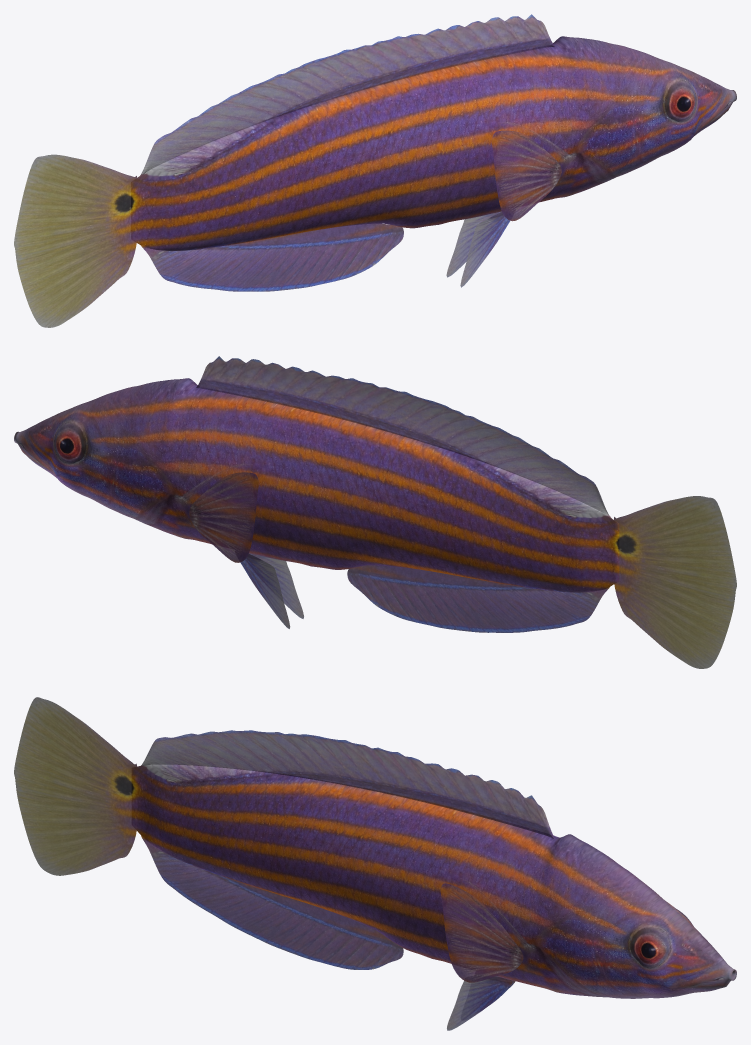
File: hexataenia.glb
The picture shows the model from 3 angles, top to bottom: view 1: azimuth 30°, elevation 25°; view 2: azimuth 150°, elevation 25°; view 3: azimuth 330°, elevation 25°; orthographic projection.
Visible parts, largest first — view 1: hexataenia__body, hexataenia__fin_0, hexataenia__fin_1, hexataenia__fin_2, hexataenia__pectoral_1, hexataenia__gill_1, hexataenia__pelvic_1, hexataenia__pelvic_-1, hexataenia__eye_1; view 2: hexataenia__body, hexataenia__fin_0, hexataenia__fin_1, hexataenia__fin_2, hexataenia__pectoral_-1, hexataenia__gill_-1, hexataenia__pelvic_-1, hexataenia__pelvic_1, hexataenia__eye_-1; view 3: hexataenia__body, hexataenia__fin_0, hexataenia__fin_1, hexataenia__fin_2, hexataenia__pectoral_1, hexataenia__gill_1, hexataenia__pelvic_1, hexataenia__eye_1.
Boxes of the visible parts, x1,y1,x2,y2 form: hexataenia__body: (136,36,736,250); hexataenia__fin_0: (14,154,137,327); hexataenia__fin_1: (138,14,555,178); hexataenia__fin_2: (141,223,403,291); hexataenia__pectoral_1: (492,130,561,221); hexataenia__gill_1: (579,77,642,184); hexataenia__pelvic_1: (460,212,509,287); hexataenia__pelvic_-1: (446,211,501,277); hexataenia__eye_1: (666,79,694,117); hexataenia__body: (14,378,619,592); hexataenia__fin_0: (614,496,736,668); hexataenia__fin_1: (196,356,611,518); hexataenia__fin_2: (347,565,609,632); hexataenia__pectoral_-1: (189,472,258,562); hexataenia__gill_-1: (108,419,171,526); hexataenia__pelvic_-1: (240,554,290,628); hexataenia__pelvic_1: (249,553,303,618); hexataenia__eye_-1: (56,421,84,459); hexataenia__body: (136,764,736,998); hexataenia__fin_0: (14,697,137,875); hexataenia__fin_1: (138,730,555,839); hexataenia__fin_2: (141,836,403,969); hexataenia__pectoral_1: (440,883,523,982); hexataenia__gill_1: (547,887,603,990); hexataenia__pelvic_1: (447,976,512,1030); hexataenia__eye_1: (631,925,666,963).
Bounding box in the file's own units: 1.2 × 0.4142 × 0.1488.
5 materials, 5 textured.
